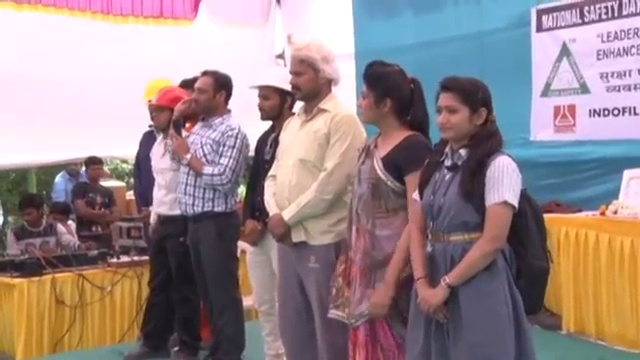helmet: (246, 67, 292, 95), (148, 85, 189, 111)
helmet_off: (430, 75, 498, 155), (356, 58, 418, 136), (283, 41, 342, 107), (180, 72, 233, 119), (10, 193, 41, 229), (81, 158, 101, 187), (47, 203, 72, 226), (62, 159, 83, 179)
helmet_on: (245, 70, 293, 127), (146, 85, 187, 137)
person: (409, 48, 547, 360), (262, 38, 363, 360), (336, 58, 436, 360), (170, 71, 254, 360), (125, 82, 189, 359), (240, 65, 297, 359), (8, 190, 84, 259), (69, 157, 114, 250), (48, 159, 82, 203)
